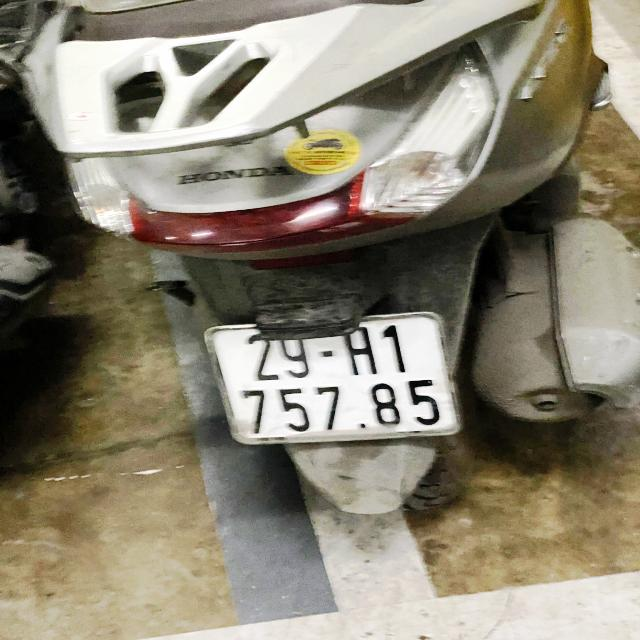license_plate: (208, 305, 468, 446)
